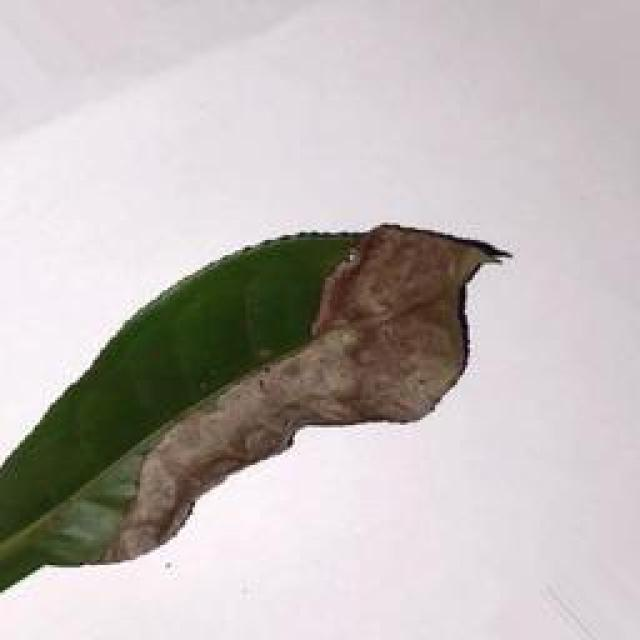Brown Blight: (0, 208, 513, 597)
